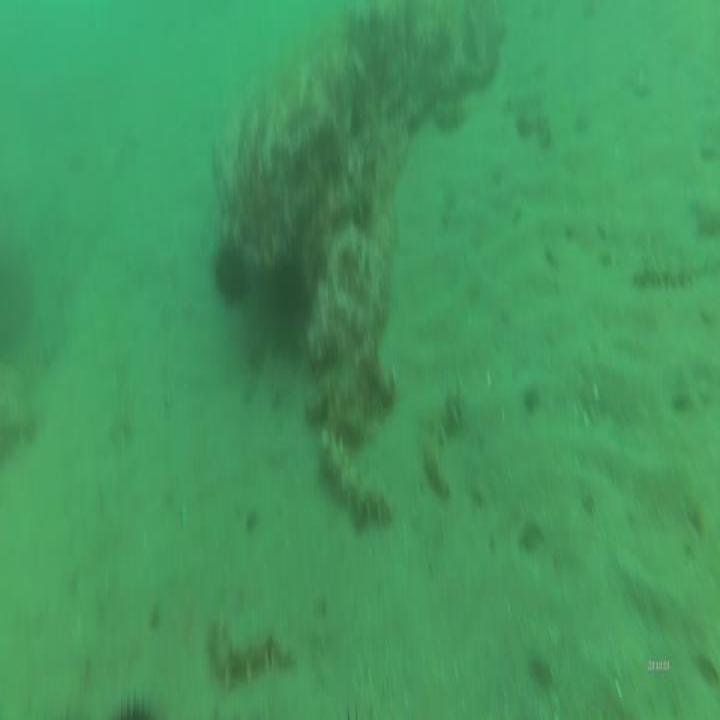echinus: (209, 229, 253, 311), (269, 242, 313, 318)
holothurian: (317, 412, 392, 537), (203, 608, 293, 692), (422, 391, 466, 498)
